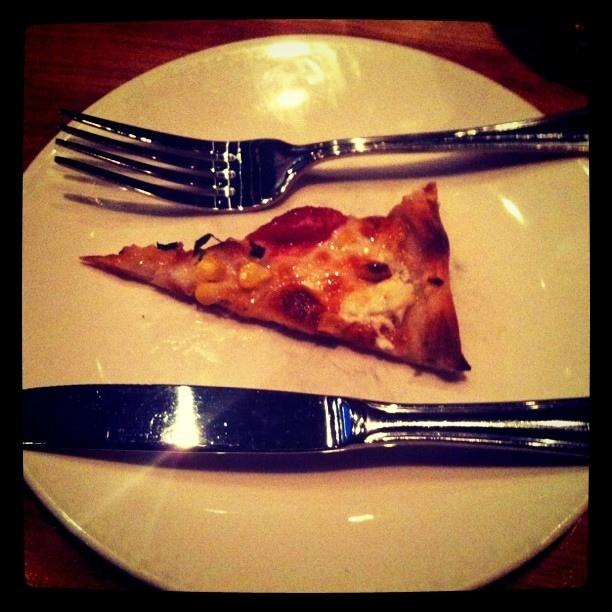corn: (238, 262, 275, 290), (194, 282, 226, 305), (197, 254, 224, 280)
